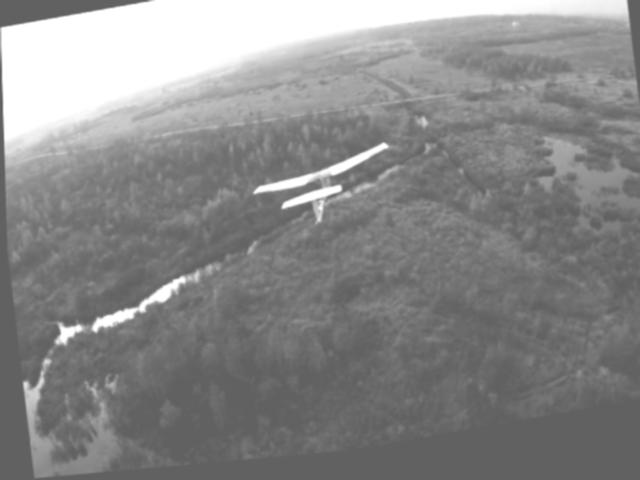hedef: (249, 141, 392, 247)
